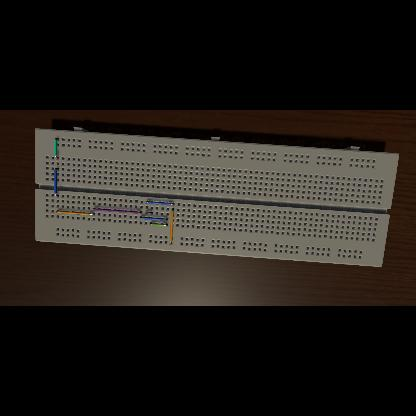breadboard: (35, 127, 399, 267)
wire: (93, 208, 142, 214), (54, 168, 60, 196), (56, 211, 96, 215), (170, 208, 174, 244), (140, 217, 168, 221), (55, 139, 59, 159), (146, 202, 174, 204), (150, 223, 167, 226), (146, 212, 152, 214)
